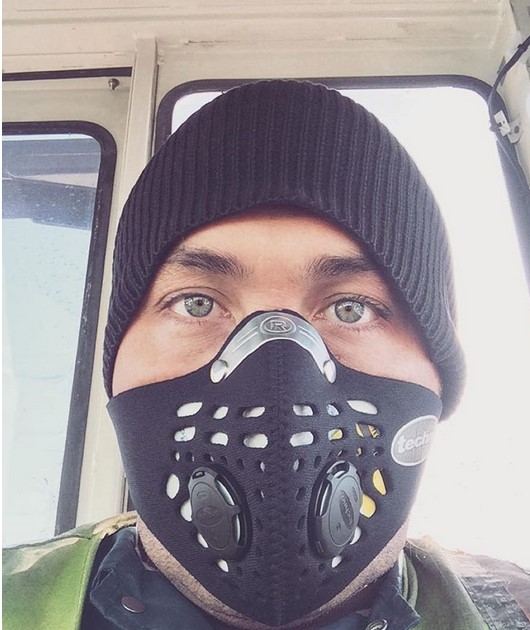face_with_mask: (102, 78, 468, 625)
